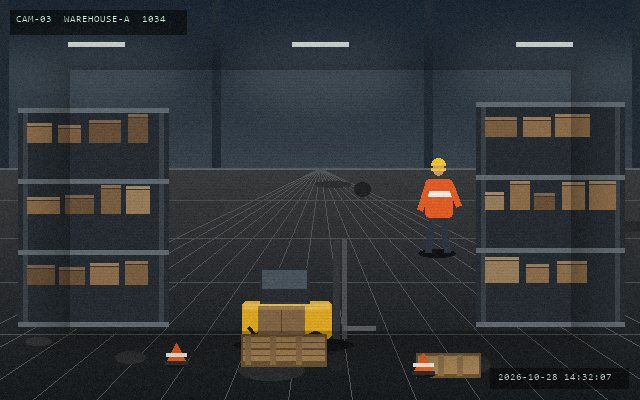cone: (164, 341, 188, 367), (411, 351, 435, 377)
forklift: (238, 237, 377, 352)
pallet: (239, 332, 328, 368), (414, 351, 482, 379)
person: (417, 156, 460, 256)
shelf: (476, 102, 624, 322), (18, 108, 168, 322)
